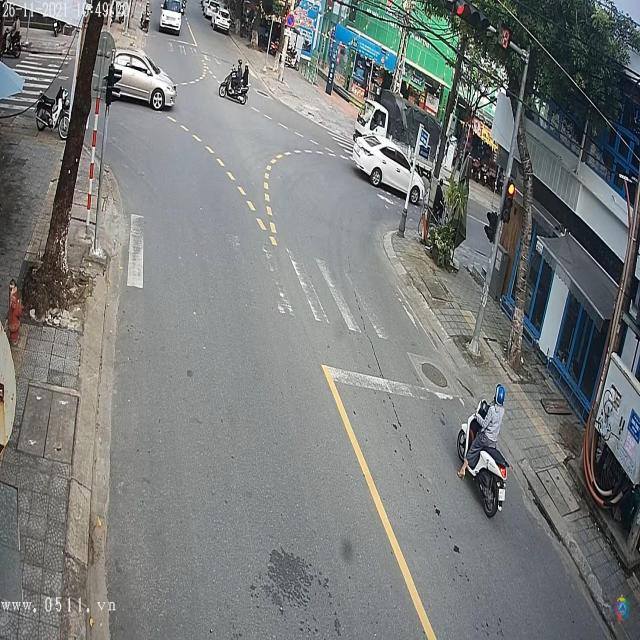car: (352, 114, 429, 201), (109, 50, 178, 111)
motorcycle: (459, 396, 513, 530), (217, 61, 249, 103)
truck: (355, 77, 444, 178)
